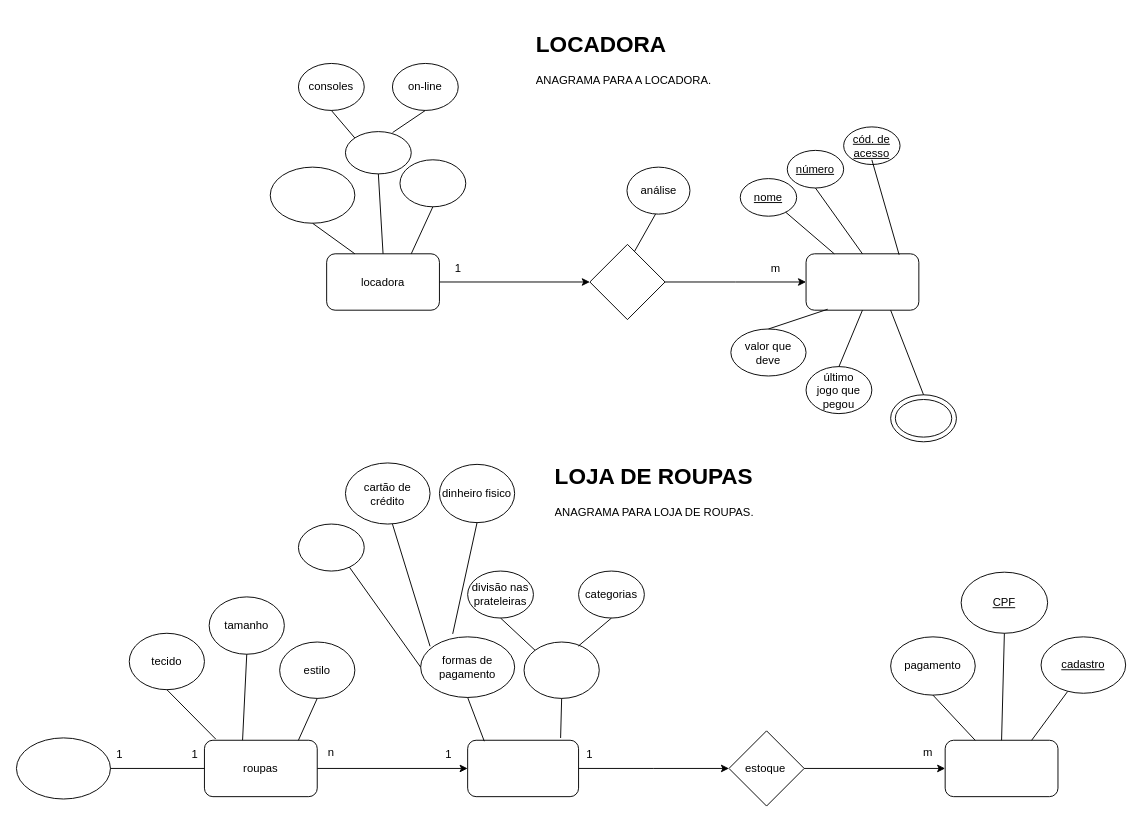
Image size: 1142x823. Some labels were removed from this diagram. The centre of each missing label's shape, as x and y in pixels:
aluguel de jogos: point (627, 281)
categoria de jogos: point (312, 194)
cliente: point (862, 281)
console do jogo: point (923, 418)
consumidor: point (1001, 768)
cód. de acesso do cliente: point (432, 183)
código: point (63, 768)
dispositivos: point (378, 152)
loja: point (523, 768)
organização para distribuição: point (561, 669)
pix: point (331, 547)
